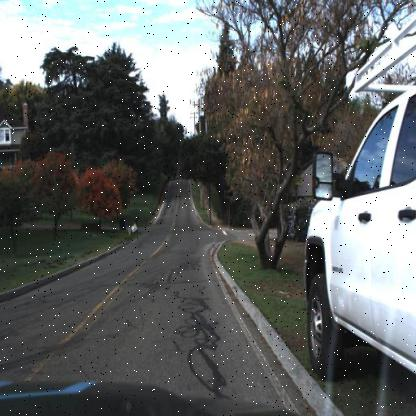truck: (302, 14, 416, 383)
